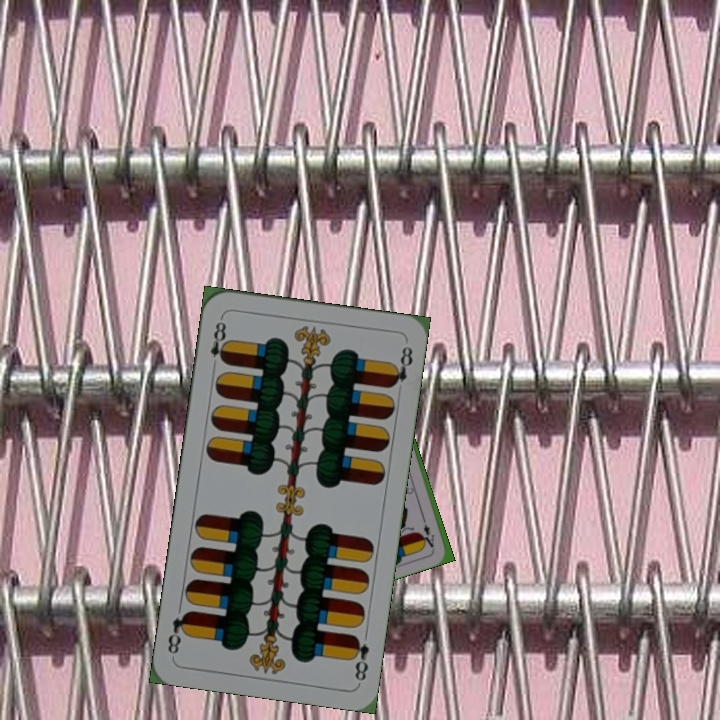E8: (206, 313, 231, 372), (347, 631, 372, 684)
EA: (417, 511, 437, 550)
